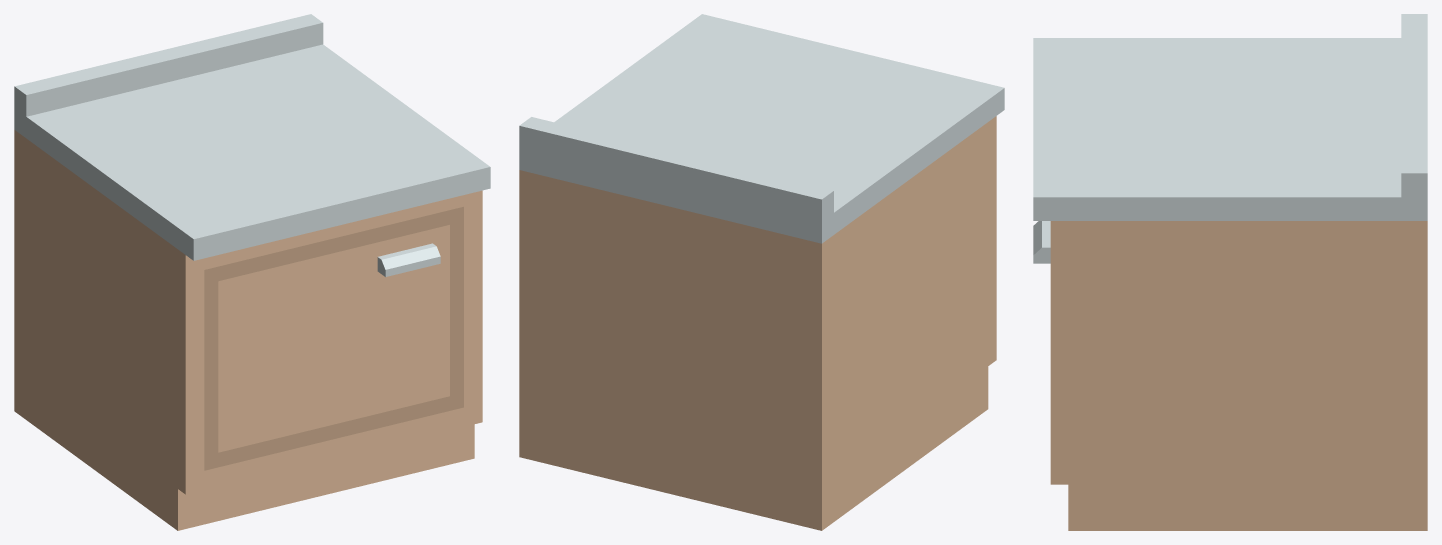
The model's file is kitchenCabinetSingle.glb.
The picture shows the model from 3 angles, left to right: view 1: azimuth 30°, elevation 25°; view 2: azimuth 150°, elevation 25°; view 3: azimuth 270°, elevation 25°; orthographic projection. The views are drawn at different scales.
Visible parts, largest first — view 1: kitchenCabinet, door; view 2: kitchenCabinet; view 3: kitchenCabinet, door.
Part boxes in pixels (<box>): kitchenCabinet: <box>14,14,490,530</box>; door: <box>204,206,463,470</box>; kitchenCabinet: <box>519,14,1004,530</box>; kitchenCabinet: <box>1033,14,1427,530</box>; door: <box>1033,221,1050,263</box>.
Size of the model in its own units: 0.43 by 0.45 by 0.45.
